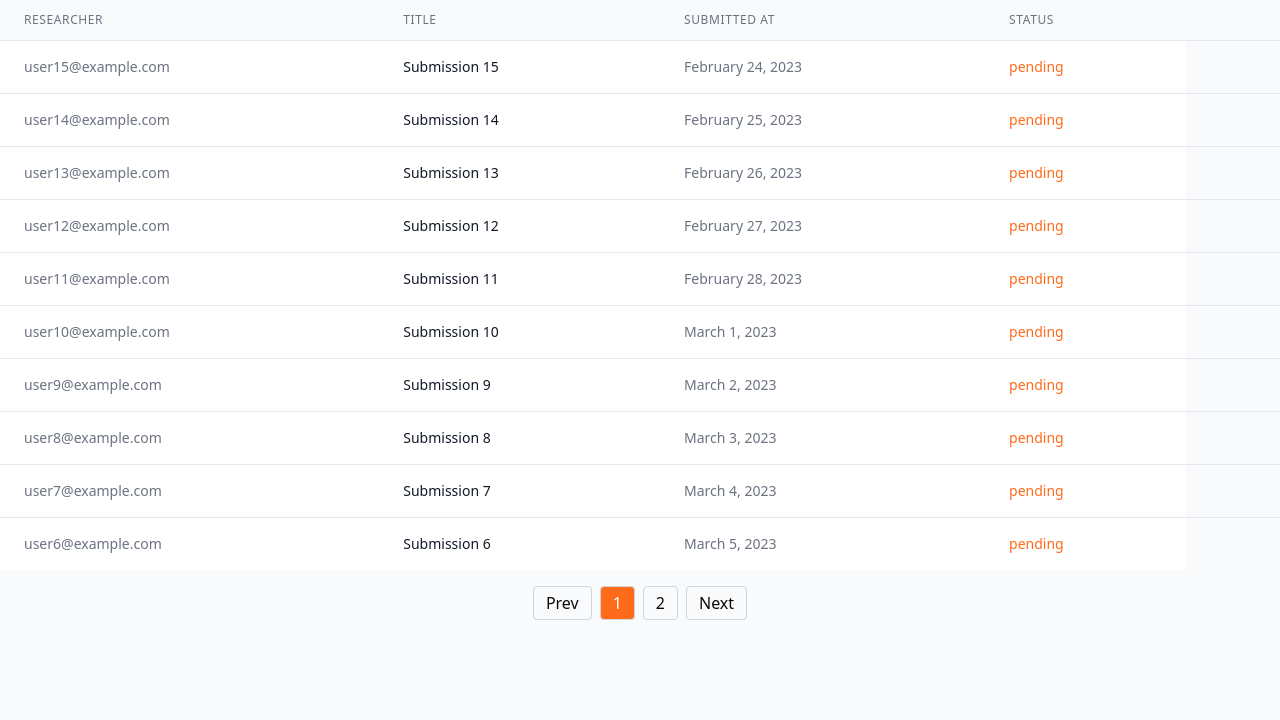
PendingSubmissionsTable Component › paginates submissions when enablePagination is true
Expected: the button "Prev" is shown, [533,586,592,620]
Expected: the button "Next" is shown, [686,586,747,620]
// Click on the pagination button "2".
Click the button "2" at coordinates (660, 603), box [643,586,678,620]
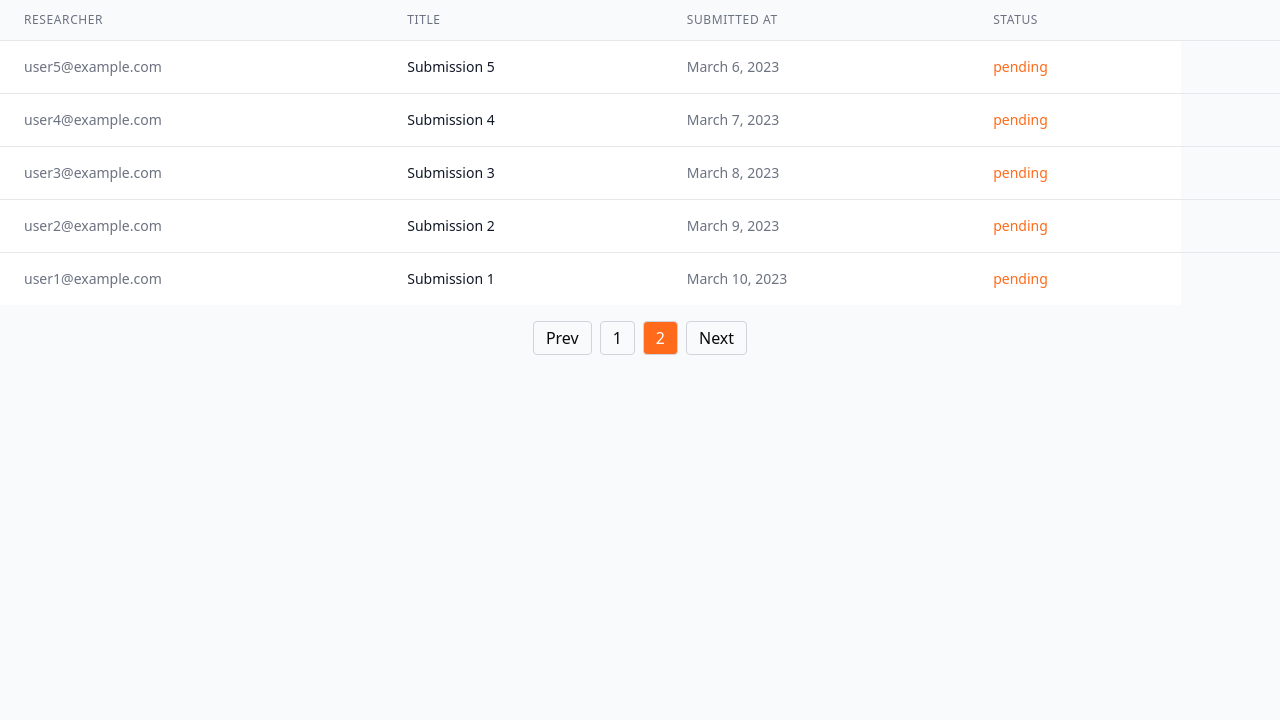
Now the text "Submission 5" is shown, box [383,40,663,94]
